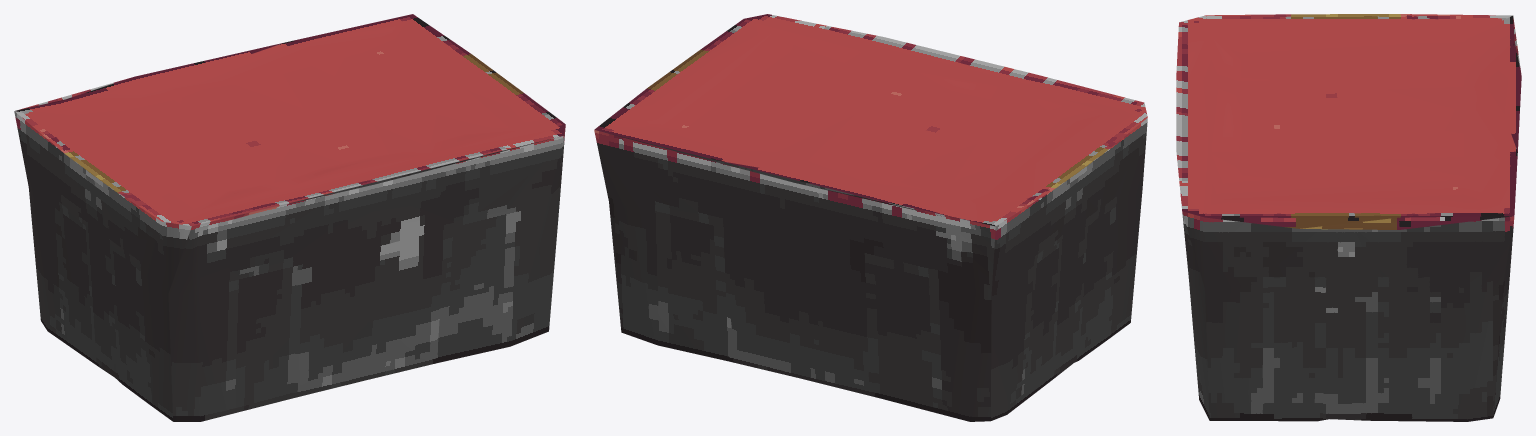
The model's file is plastic_container.glb.
3 views of the same model, side by side, from view 1: azimuth 30°, elevation 25°; view 2: azimuth 150°, elevation 25°; view 3: azimuth 270°, elevation 25° (orthographic). The views are drawn at different scales.
Parts seen in each view (by area): view 1: mesh; view 2: mesh; view 3: mesh.
Part boxes in pixels (bbox=[...]): mesh: bbox=[14, 14, 565, 421]; mesh: bbox=[594, 14, 1147, 421]; mesh: bbox=[1176, 14, 1521, 421].
Bounding box in the file's own units: 0.8882 × 0.4297 × 0.6251.
1 material, 1 textured.
